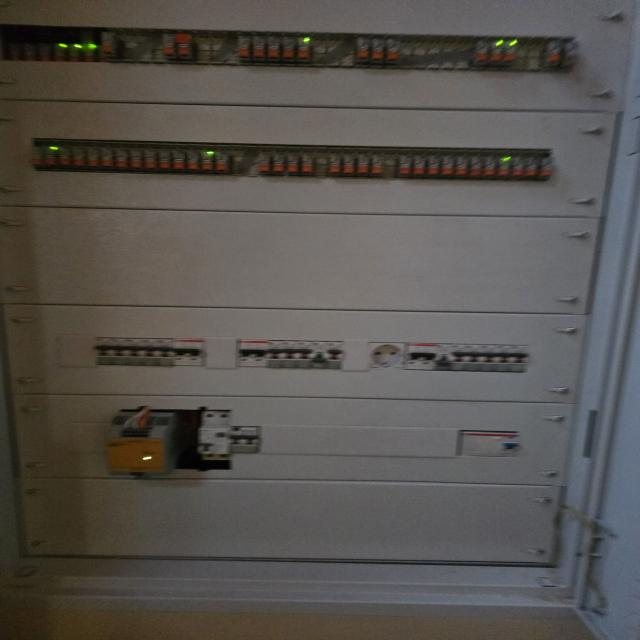FI: (459, 429, 518, 456)
FI_Sicherungskombi: (200, 411, 229, 459)
Leitungsschutzschalter: (310, 340, 326, 370), (109, 338, 125, 366), (140, 338, 156, 366), (156, 338, 172, 366), (294, 340, 310, 368), (242, 426, 258, 453), (94, 338, 110, 365), (327, 342, 343, 369), (511, 345, 527, 372), (125, 338, 140, 366), (187, 338, 202, 366), (239, 340, 254, 368), (481, 344, 496, 372), (406, 343, 422, 369), (436, 344, 451, 371), (496, 345, 511, 372), (254, 340, 268, 368), (281, 341, 295, 368), (422, 343, 436, 370), (452, 344, 466, 371), (466, 344, 480, 371), (174, 339, 187, 367), (268, 340, 281, 368), (230, 426, 242, 453)
Relais: (102, 32, 117, 59), (371, 38, 385, 63), (176, 35, 191, 58), (387, 38, 400, 64), (266, 36, 280, 60), (237, 37, 252, 59), (281, 37, 295, 60), (296, 37, 310, 60), (356, 38, 370, 61), (538, 157, 553, 178), (253, 36, 266, 59), (144, 149, 158, 170), (497, 156, 511, 177), (489, 42, 502, 64), (504, 42, 517, 64), (512, 156, 525, 178), (547, 44, 559, 67), (566, 44, 578, 67), (475, 42, 488, 63), (172, 149, 185, 170), (356, 154, 369, 175), (469, 156, 482, 177), (526, 156, 538, 178), (86, 146, 99, 166), (100, 147, 113, 167), (115, 147, 128, 167), (201, 151, 214, 171), (329, 154, 342, 174), (164, 35, 175, 58), (130, 148, 142, 169), (370, 154, 382, 175), (399, 155, 411, 176), (456, 156, 468, 177), (158, 150, 171, 169), (215, 152, 228, 171), (286, 154, 299, 173), (8, 41, 20, 61), (54, 42, 66, 62), (58, 146, 70, 166), (72, 146, 84, 166), (188, 150, 200, 170), (442, 156, 454, 176), (484, 157, 496, 177), (82, 43, 95, 61), (413, 155, 424, 176), (428, 155, 439, 176), (31, 146, 43, 165), (259, 154, 271, 172), (300, 154, 312, 172), (26, 42, 37, 61), (45, 146, 56, 165), (272, 155, 284, 172), (70, 43, 80, 62), (344, 154, 354, 173), (41, 43, 50, 62)
